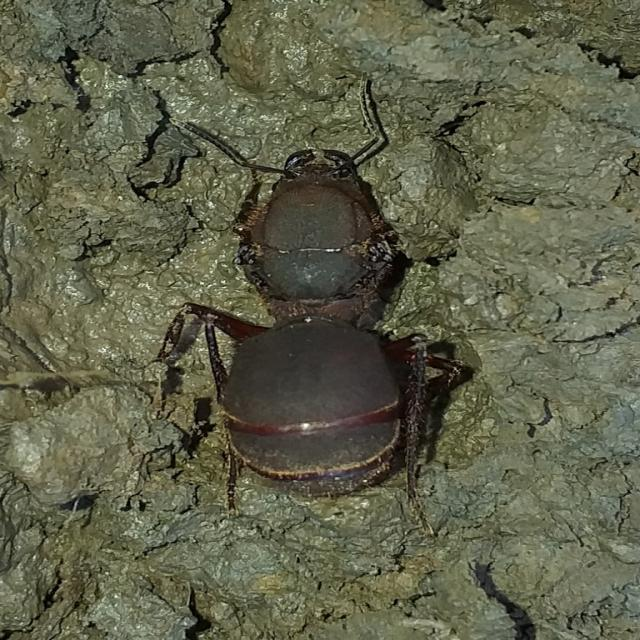Alive-Female-Dealate: (148, 72, 474, 536)
